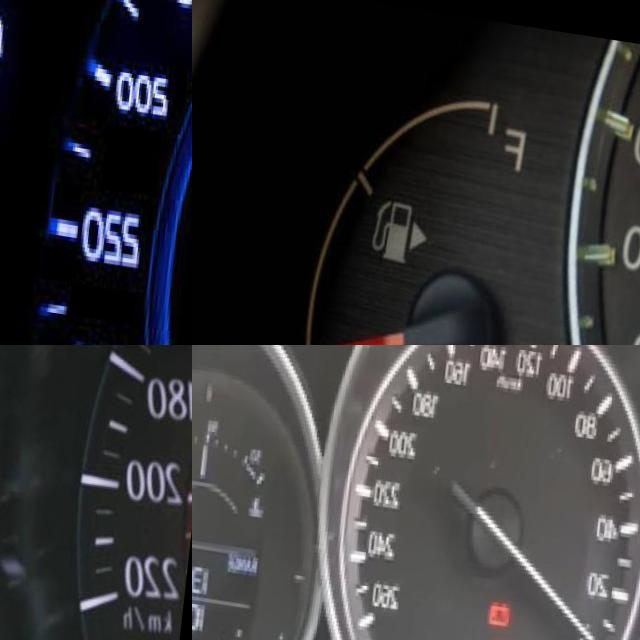Seat Belt: (493, 624, 516, 640)
